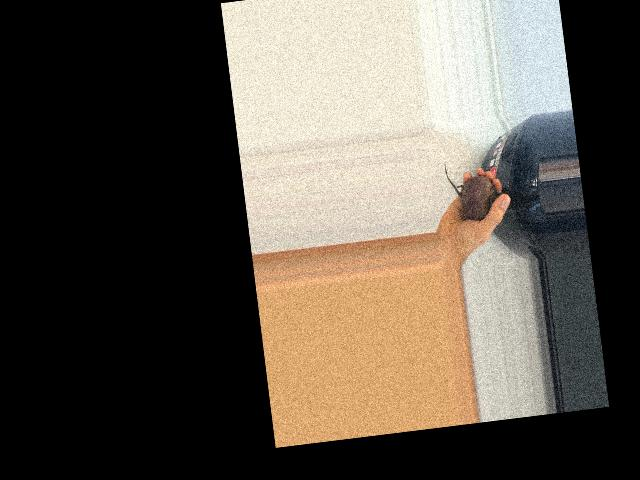beet: (443, 155, 504, 223)
